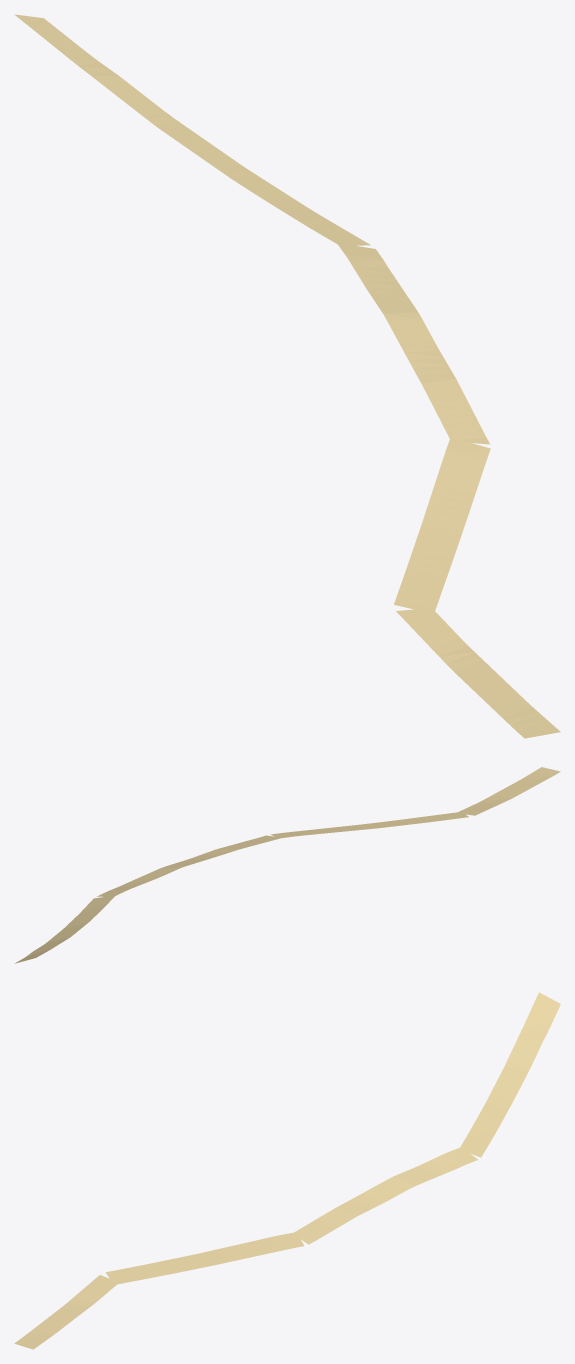
Rendered from Trail_05.glb.
3 renders of one model, top to bottom at view 1: azimuth 30°, elevation 25°; view 2: azimuth 150°, elevation 25°; view 3: azimuth 330°, elevation 25°, orthographic. The views are drawn at different scales.
Visible parts, largest first — view 1: Trail_05; view 2: Trail_05; view 3: Trail_05.
Part boxes in pixels (x1=…): Trail_05: x1=14, y1=14, x2=560, y2=738; Trail_05: x1=15, y1=767, x2=560, y2=963; Trail_05: x1=14, y1=992, x2=560, y2=1349.
Size of the model in its own units: 16.7 by 6.98 by 62.35.
